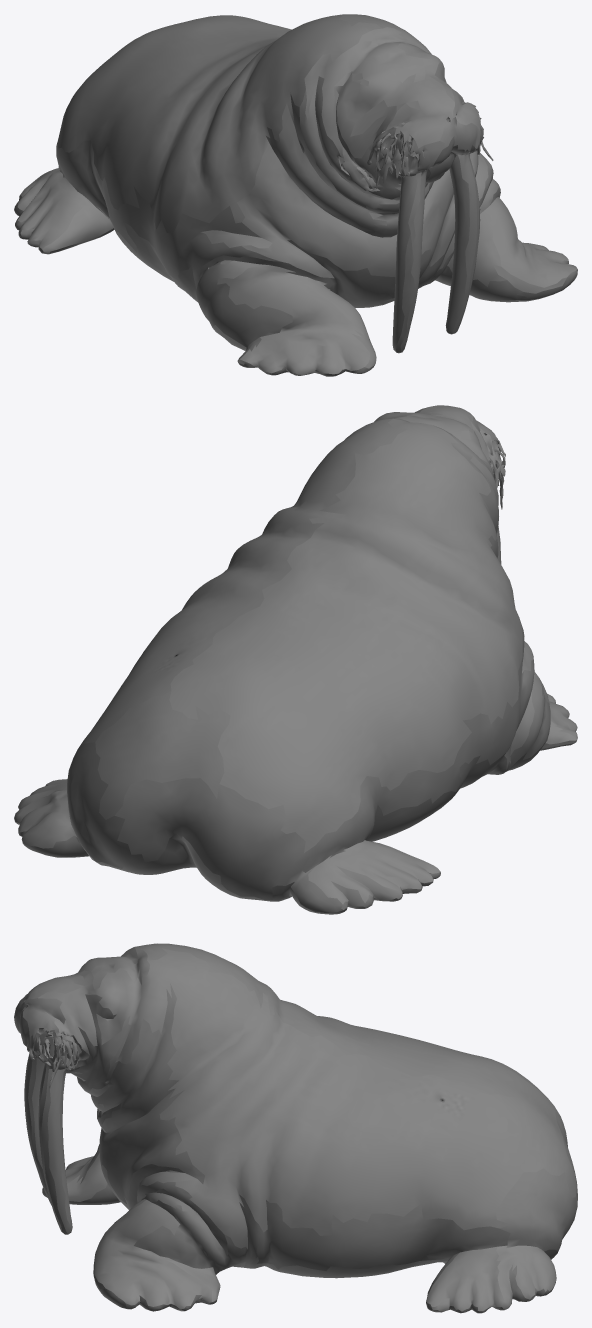
Rendered from completion_walrus_2.glb.
3 renders of one model, top to bottom at view 1: azimuth 30°, elevation 25°; view 2: azimuth 150°, elevation 25°; view 3: azimuth 270°, elevation 25°, orthographic. The views are drawn at different scales.
Visible parts, largest first — view 1: geometry_0; view 2: geometry_0; view 3: geometry_0.
Boxes of the visible parts, x1,y1,x2,y2 form: geometry_0: [14, 14, 577, 376]; geometry_0: [14, 405, 577, 914]; geometry_0: [14, 943, 577, 1313].
Bounding box in the file's own units: 0.7379 × 0.5495 × 1.
Materials: 1 (1 with a texture image).
